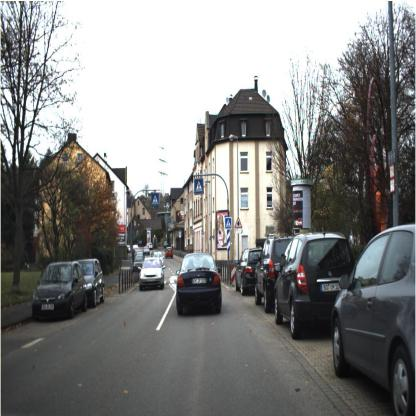danger: (234, 215, 243, 231)
mandatory: (193, 177, 206, 196), (150, 192, 162, 208), (224, 213, 232, 231)
